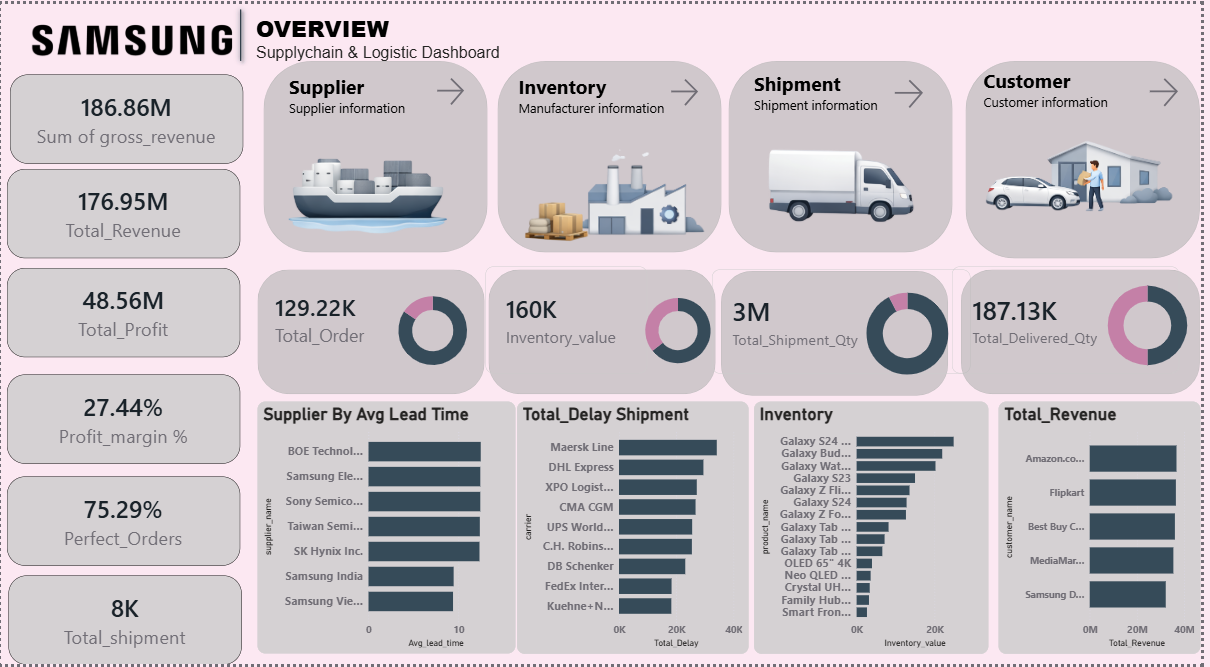

The page's visual inventory and layout, read from the dashboard file:
{"tool":"powerbi","page":{"name":"Overview","canvas":[2000,1100],"ordinal":1},"visuals":[{"type":"image","box":[24.7,7.4,371.1,103.9],"z":0},{"type":"shape","box":[346.3,0,103.9,103.9],"z":1000},{"type":"textbox","box":[420.5,7.4,677.8,96.5],"z":2000},{"type":"cardVisual","fields":{"Data":["Sum(fact_sales.gross_revenue)"]},"box":[14.8,116.3,388.4,148.4],"z":3000},{"type":"cardVisual","fields":{"Data":["dim_customer.Total_Revenue"]},"box":[9.9,274.6,388.4,148.4],"z":4000},{"type":"cardVisual","fields":{"Data":["Table.Total_Profit"]},"box":[9.9,440.3,388.4,148.4],"z":5000},{"type":"cardVisual","fields":{"Data":["Table.Profit_margin %"]},"box":[9.9,618.5,388.4,148.4],"z":6000},{"type":"cardVisual","fields":{"Data":["Table.Perfect_Orders"]},"box":[9.9,786.7,388.4,148.4],"z":7000},{"type":"cardVisual","fields":{"Data":["Table.Total_shipment"]},"box":[12.4,952.4,388.4,148.4],"z":8000},{"type":"shape","box":[437.9,94,373.5,319.1],"z":9000},{"type":"shape","box":[828.7,94,373.5,319.1],"z":10000},{"type":"shape","box":[1212.2,94,373.5,319.1],"z":11000},{"type":"shape","box":[1608,94,390.9,329],"z":12000},{"type":"actionButton","box":[719.9,116.3,64.3,56.9],"z":13000},{"type":"actionButton","box":[1481.8,121.2,76.7,59.4],"z":14000},{"type":"actionButton","box":[1907.3,116.3,71.7,59.4],"z":15000},{"type":"actionButton","box":[1110.7,96.5,56.9,99],"z":16000},{"type":"image","box":[450.2,165.7,309.2,279.5],"z":17000},{"type":"image","box":[841.1,205.3,343.9,217.7],"z":18000},{"type":"image","box":[1249.3,205.3,291.9,175.6],"z":19000},{"type":"image","box":[1627.8,146,353.8,274.6],"z":20000},{"type":"clusteredBarChart","title":"Supplier By Avg Lead Time","fields":{"Y":["Table.Avg_lead_time"],"Category":["dim_supplier.supplier_name"]},"box":[427.5,662.5,430,420],"z":21000},{"type":"clusteredBarChart","title":"Inventory","fields":{"Category":["dim_product.product_name"],"Y":["Table.Inventory_value"]},"box":[1254.2,663,390.9,420.5],"z":22000},{"type":"clusteredBarChart","title":"Total_Delay Shipment","fields":{"Y":["Table.Total_Delay"],"Category":["fact_shipment.carrier"]},"box":[860.9,663,385.9,420.5],"z":23000},{"type":"clusteredBarChart","title":"Total_Revenue","fields":{"Category":["dim_customer.customer_name"],"Y":["dim_customer.Total_Revenue"]},"box":[1662.4,663,336.4,420.5],"z":24000},{"type":"shape","box":[428,442.8,378.5,207.8],"z":25000},{"type":"donutChart","fields":{"Y":["Table.Total_Order","Table.defect_rate"]},"box":[643.2,442.8,153.4,202.9],"z":26000},{"type":"cardVisual","fields":{"Data":["Table.Total_Order"]},"box":[428,442.8,225.1,165.7],"z":27000},{"type":"shape","box":[811.4,442.8,378.5,207.8],"z":28000},{"type":"cardVisual","fields":{"Data":["Table.Inventory_value"]},"box":[806.5,437.9,269.6,178.1],"z":29000},{"type":"donutChart","fields":{"Y":["Table.Inventory_value","Table.safty_stock_level"]},"box":[1053.8,442.8,146,202.9],"z":30000},{"type":"shape","box":[1199.8,445.3,378.5,207.8],"z":31000},{"type":"cardVisual","fields":{"Data":["Table.Total_Shipment_Qty"]},"box":[1185,442.8,430.4,173.2],"z":32000},{"type":"donutChart","fields":{"Y":["Table.Total_Shipment_Qty","Table.Total_Delay"]},"box":[1420,452.7,180.6,193],"z":33000},{"type":"shape","box":[1600.6,442.8,398.3,207.8],"z":34000},{"type":"cardVisual","fields":{"Data":["Table.Total_Delivered_Qty"]},"box":[1585.7,437.9,378.5,178.1],"z":35000},{"type":"donutChart","fields":{"Y":["Table.Total_Delivered_Qty","Table.Total_Qty_Delay"]},"box":[1823.2,445.3,175.6,180.6],"z":36000},{"type":"textbox","box":[1249.3,103.9,232.5,91.5],"z":37000},{"type":"textbox","box":[475,108.8,220.2,81.6],"z":38000},{"type":"textbox","box":[858.4,108.8,269.6,91.5],"z":39000},{"type":"textbox","box":[1632.7,99,279.5,113.8],"z":40000}]}

Visuals, with their boxes in screenshot pixels (x1, y1, x2, y2), scaled from the page's 2000x1100 canvas onto the 1210x667 screenshot:
image: 15, 4, 239, 67
shape: 210, 0, 272, 63
textbox: 254, 4, 664, 63
cardVisual - Sum(fact_sales.gross_revenue): 9, 71, 244, 161
cardVisual - dim_customer.Total_Revenue: 6, 167, 241, 256
cardVisual - Table.Total_Profit: 6, 267, 241, 357
cardVisual - Table.Profit_margin %: 6, 375, 241, 465
cardVisual - Table.Perfect_Orders: 6, 477, 241, 567
cardVisual - Table.Total_shipment: 8, 578, 242, 666
shape: 265, 57, 491, 250
shape: 501, 57, 727, 250
shape: 733, 57, 959, 250
shape: 973, 57, 1209, 256
actionButton: 436, 71, 474, 105
actionButton: 896, 73, 943, 110
actionButton: 1154, 71, 1197, 107
actionButton: 672, 59, 706, 119
image: 272, 100, 459, 270
image: 509, 124, 717, 256
image: 756, 124, 932, 231
image: 985, 89, 1199, 255
"Supplier By Avg Lead Time" clusteredBarChart: 259, 402, 519, 656
"Inventory" clusteredBarChart: 759, 402, 995, 657
"Total_Delay Shipment" clusteredBarChart: 521, 402, 754, 657
"Total_Revenue" clusteredBarChart: 1006, 402, 1209, 657
shape: 259, 268, 488, 395
donutChart - Table.Total_Order x Table.defect_rate: 389, 268, 482, 392
cardVisual - Table.Total_Order: 259, 268, 395, 369
shape: 491, 268, 720, 395
cardVisual - Table.Inventory_value: 488, 266, 651, 374
donutChart - Table.Inventory_value x Table.safty_stock_level: 638, 268, 726, 392
shape: 726, 270, 955, 396
cardVisual - Table.Total_Shipment_Qty: 717, 268, 977, 374
donutChart - Table.Total_Shipment_Qty x Table.Total_Delay: 859, 275, 968, 392
shape: 968, 268, 1209, 395
cardVisual - Table.Total_Delivered_Qty: 959, 266, 1188, 374
donutChart - Table.Total_Delivered_Qty x Table.Total_Qty_Delay: 1103, 270, 1209, 380
textbox: 756, 63, 896, 118
textbox: 287, 66, 421, 115
textbox: 519, 66, 682, 121
textbox: 988, 60, 1157, 129
